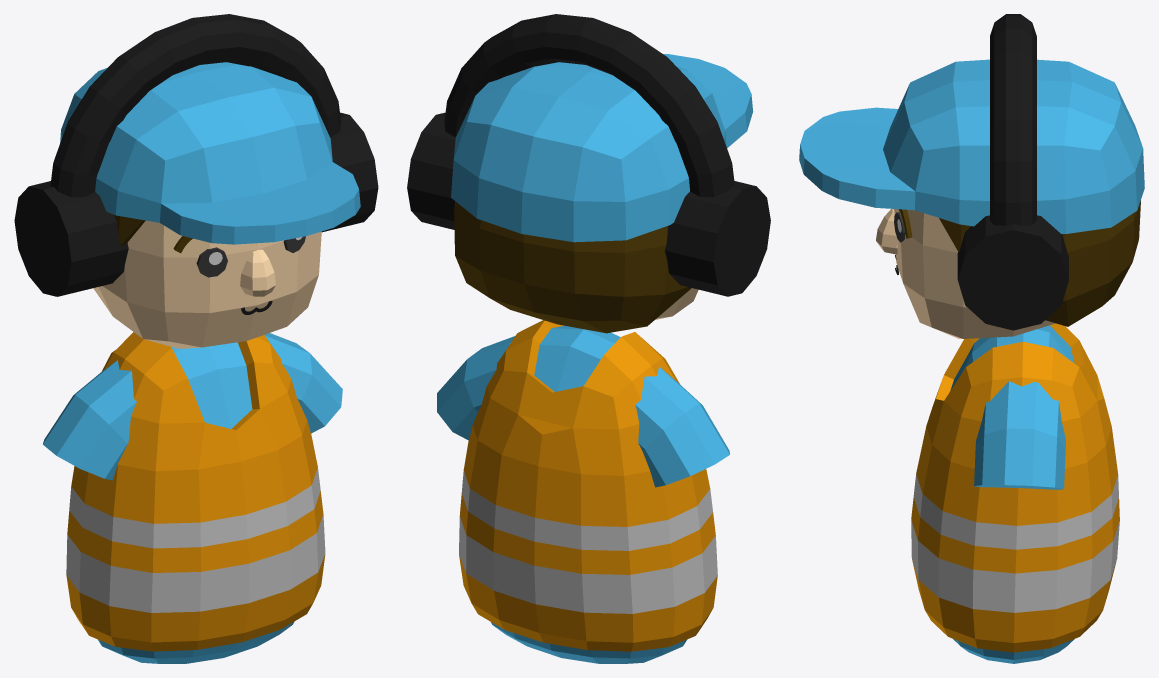
Rendered from Ramp Agent Body.fbx.
The picture shows the model from 3 angles, left to right: view 1: azimuth 30°, elevation 25°; view 2: azimuth 150°, elevation 25°; view 3: azimuth 270°, elevation 25°; orthographic projection. The views are drawn at different scales.
Parts seen in each view (by area): view 1: petugas, head 3, headset headband, headset earpiece, arm 2.001, arm 2, Cube, eyes; view 2: petugas, head 3, headset headband, headset earpiece, arm 2.001, arm 2; view 3: head 3, petugas, headset earpiece, headset headband, arm 2, Cube.
Part boxes in pixels (x1,y1,x2,y2): petugas: (66, 332, 325, 663); head 3: (60, 62, 360, 348); headset headband: (50, 14, 341, 197); headset earpiece: (14, 112, 378, 296); arm 2.001: (43, 360, 136, 480); arm 2: (265, 333, 342, 433); Cube: (240, 249, 275, 296); eyes: (196, 236, 305, 277); petugas: (459, 320, 717, 663); head 3: (451, 54, 753, 333); headset headband: (444, 14, 734, 197); headset earpiece: (407, 112, 770, 296); arm 2.001: (635, 367, 729, 487); arm 2: (437, 336, 514, 440); head 3: (799, 59, 1144, 338); petugas: (911, 323, 1119, 663); headset earpiece: (957, 215, 1068, 330); headset headband: (990, 14, 1036, 225); arm 2: (974, 381, 1065, 489); Cube: (876, 209, 897, 254).
Bounding box in the file's own units: 230 × 451 × 231.
